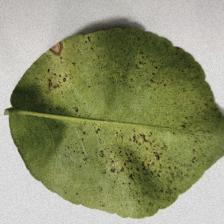canker: (43, 30, 191, 207)
